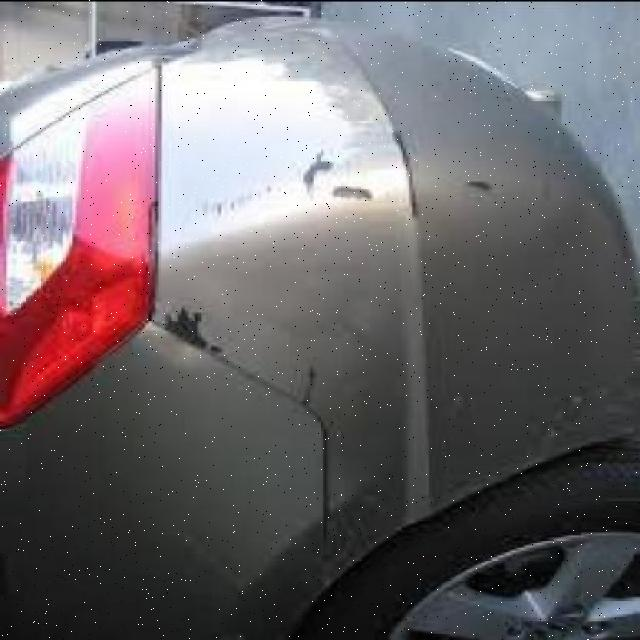damage: (192, 132, 568, 229), (150, 303, 227, 365), (287, 359, 322, 416)
